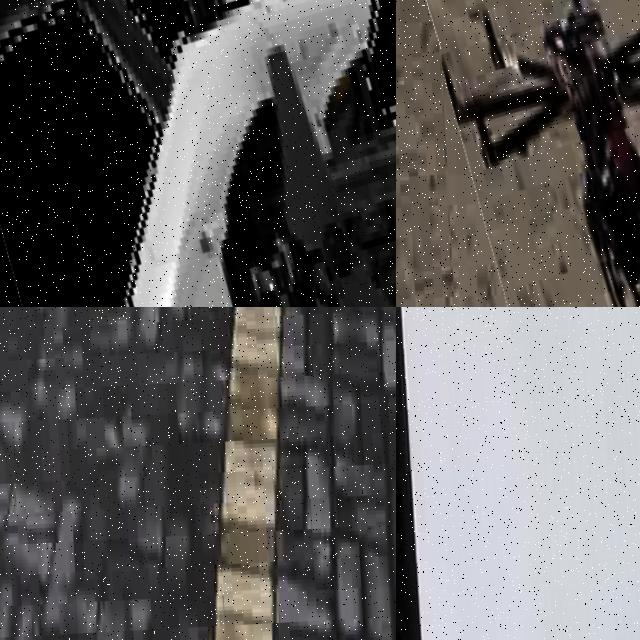0: (434, 0, 640, 307)
drone: (0, 0, 396, 307)
